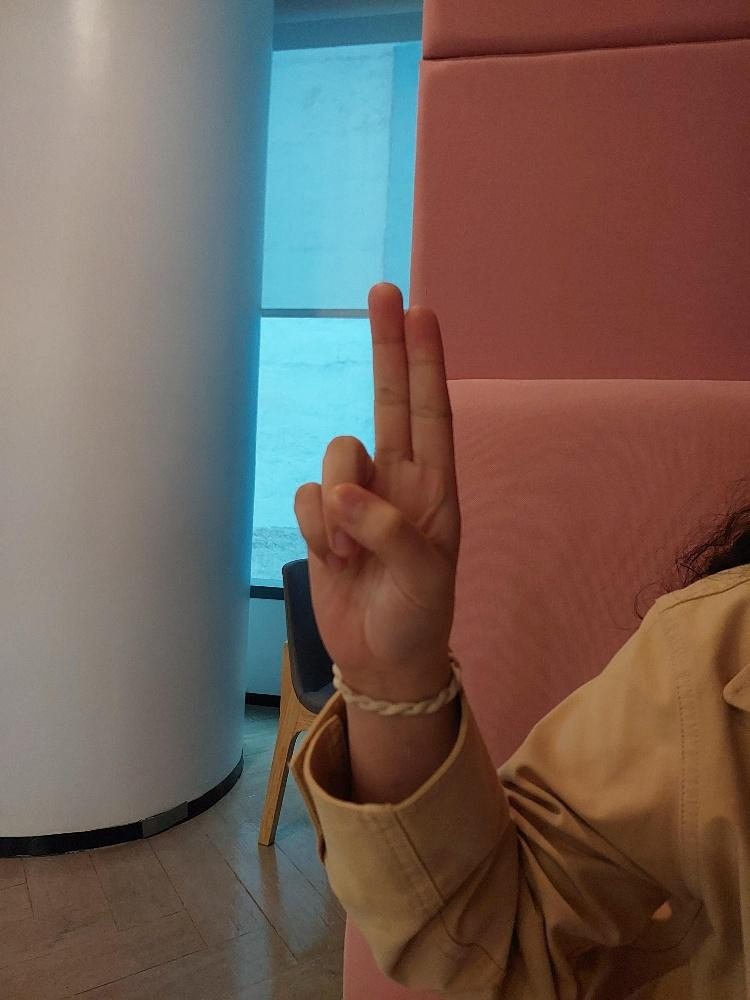u: (282, 270, 469, 684)
